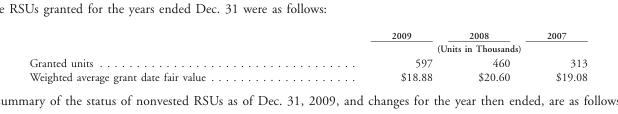table: (28, 29, 586, 82)
table column: (28, 29, 297, 82), (297, 29, 450, 82), (450, 29, 527, 82), (527, 29, 586, 82)
table column header: (28, 29, 586, 54)
table row: (28, 54, 586, 69), (28, 41, 586, 54), (28, 69, 586, 82), (28, 29, 586, 41)
table spanning cell: (297, 41, 586, 54)
